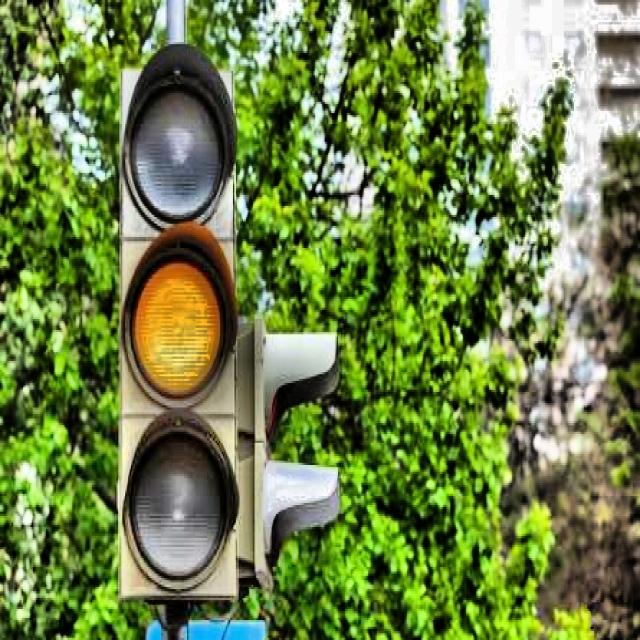yellow: (122, 69, 238, 599)
